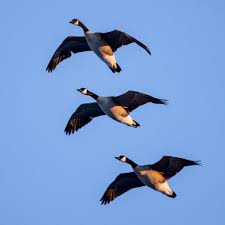goose: (43, 16, 155, 83), (98, 152, 204, 210), (60, 86, 170, 140)
